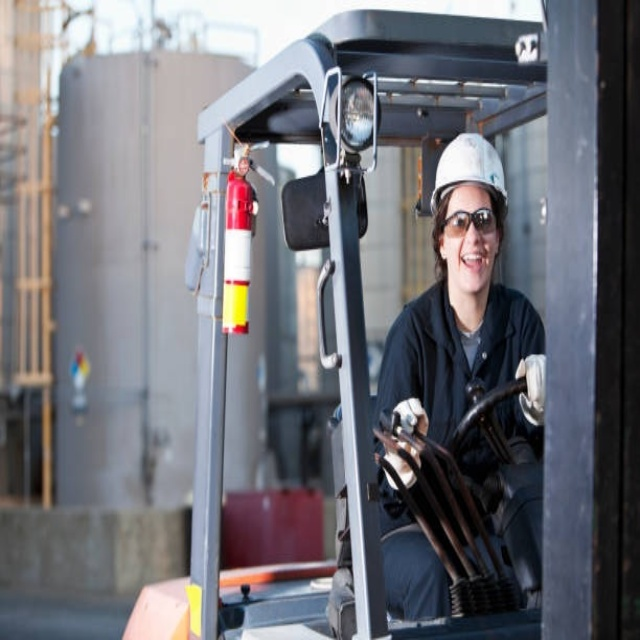Gafas: (441, 208, 498, 237)
Guantes: (517, 352, 546, 425), (391, 397, 427, 442)
Sin_mascara: (456, 245, 487, 284)
